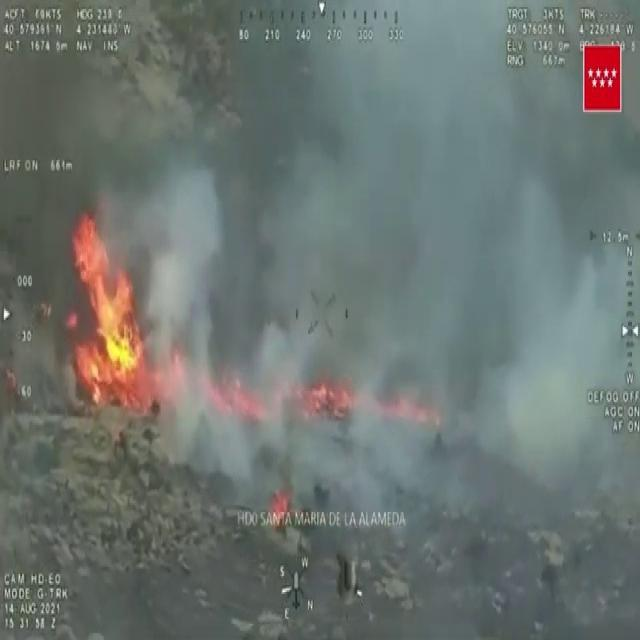Fire: (64, 202, 155, 406)
Smoke: (136, 3, 614, 490)
